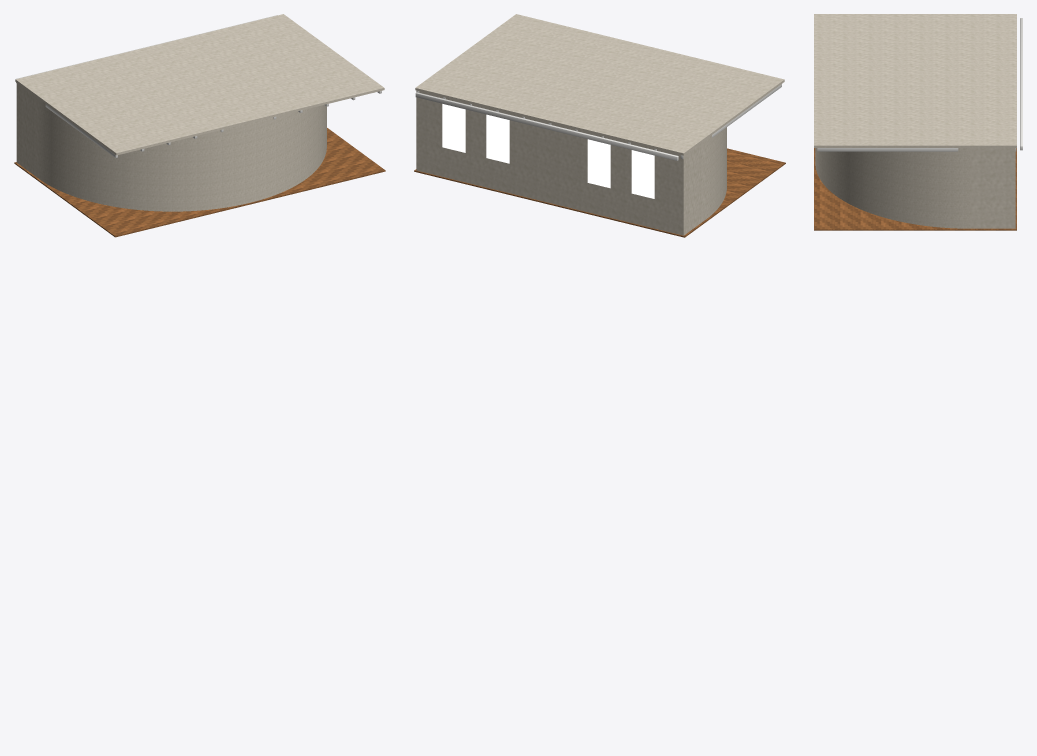
Rendered from sala.glb.
3 renders of one model, left to right at view 1: azimuth 30°, elevation 25°; view 2: azimuth 150°, elevation 25°; view 3: azimuth 270°, elevation 25°, orthographic.
Visible parts, largest first — view 1: Techo, MuroCurvo, Suelo, Muros, Casetones; view 2: Techo, Muros, Cielo, Suelo, Casetones, MuroCurvo; view 3: Techo, MuroCurvo, Muros, Suelo, Casetones.
Part boxes in pixels (left/top/right/bottom): Techo: left=15, top=14, right=384, bottom=155; MuroCurvo: left=39, top=99, right=326, bottom=211; Suelo: left=14, top=128, right=385, bottom=237; Muros: left=16, top=83, right=39, bottom=178; Casetones: left=16, top=15, right=381, bottom=157; Techo: left=415, top=14, right=784, bottom=155; Muros: left=416, top=91, right=706, bottom=235; Cielo: left=442, top=104, right=654, bottom=198; Suelo: left=414, top=148, right=785, bottom=237; Casetones: left=415, top=84, right=781, bottom=160; MuroCurvo: left=706, top=127, right=726, bottom=218; Techo: left=814, top=14, right=1016, bottom=147; MuroCurvo: left=815, top=148, right=970, bottom=228; Muros: left=970, top=148, right=1015, bottom=228; Suelo: left=814, top=148, right=1016, bottom=230; Casetones: left=817, top=18, right=1022, bottom=151.
Bounding box in the file's own units: 24.6 × 57.2 × 16.36.
Materials: 54 (36 with a texture image).
